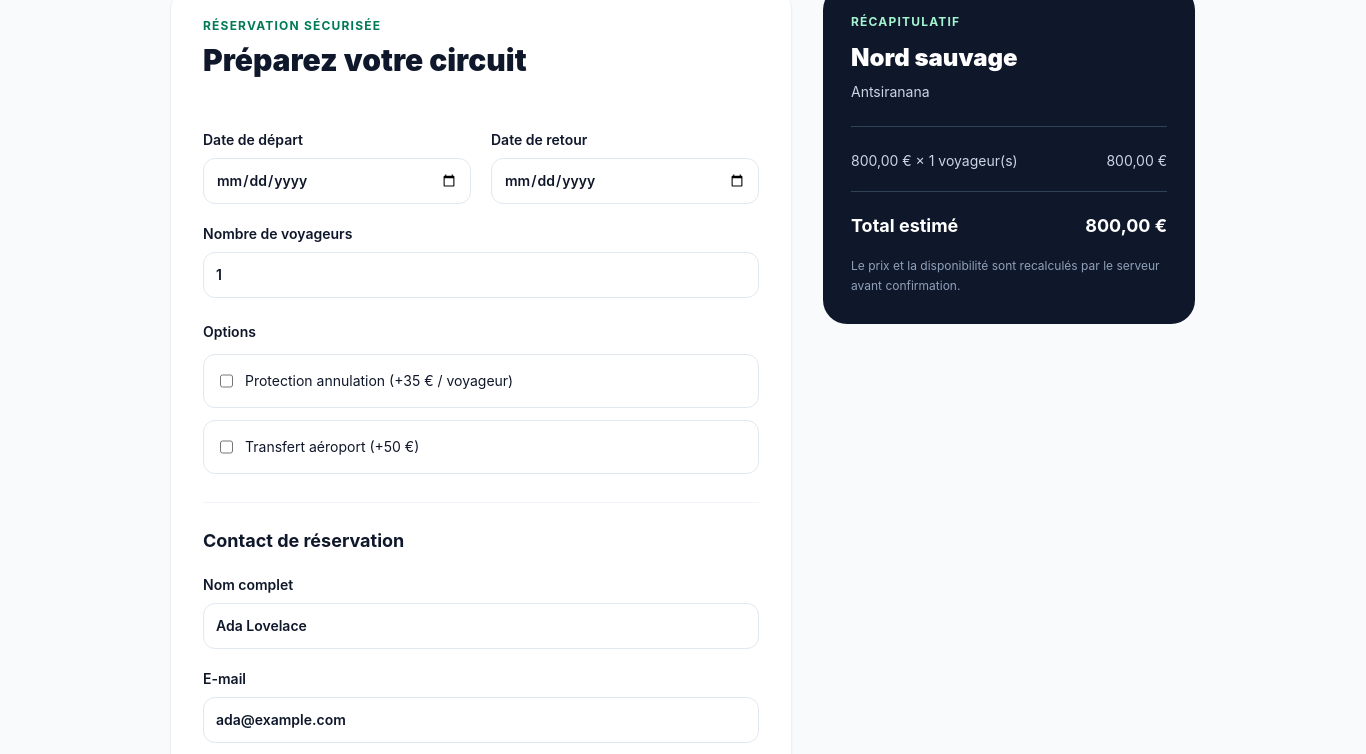
CircuitBookingPage › loads a circuit, pre-fills the contact and creates its booking
Expected: the heading "Préparez votre circuit" is shown, [203,42,527,78]
Expected: the field showing "ada@example.com" is shown, [203,697,759,743]
Type "2027-01-10" into the date field labelled "Date de départ". click: (337, 181)
box: [203,158,471,204]
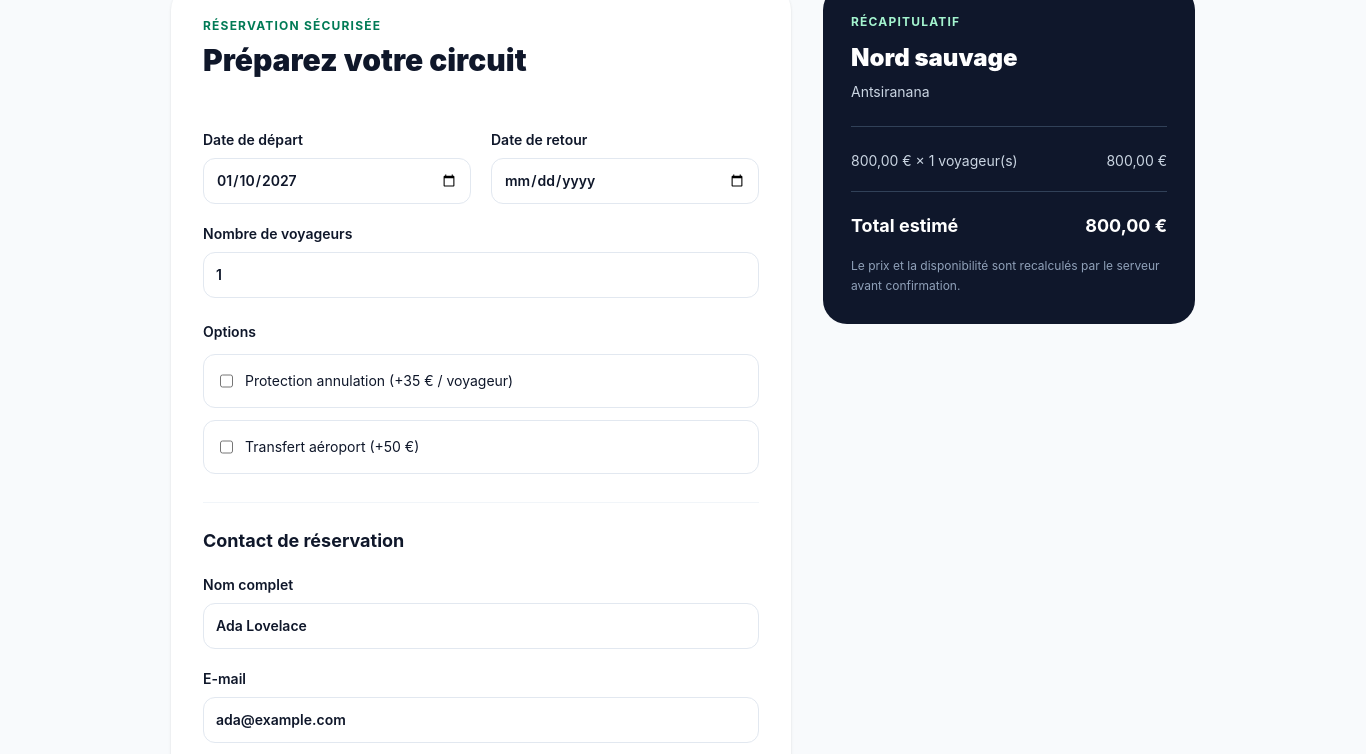
Type "2027-01-17" into the date field labelled "Date de retour". click: (625, 181)
box: [491,158,759,204]
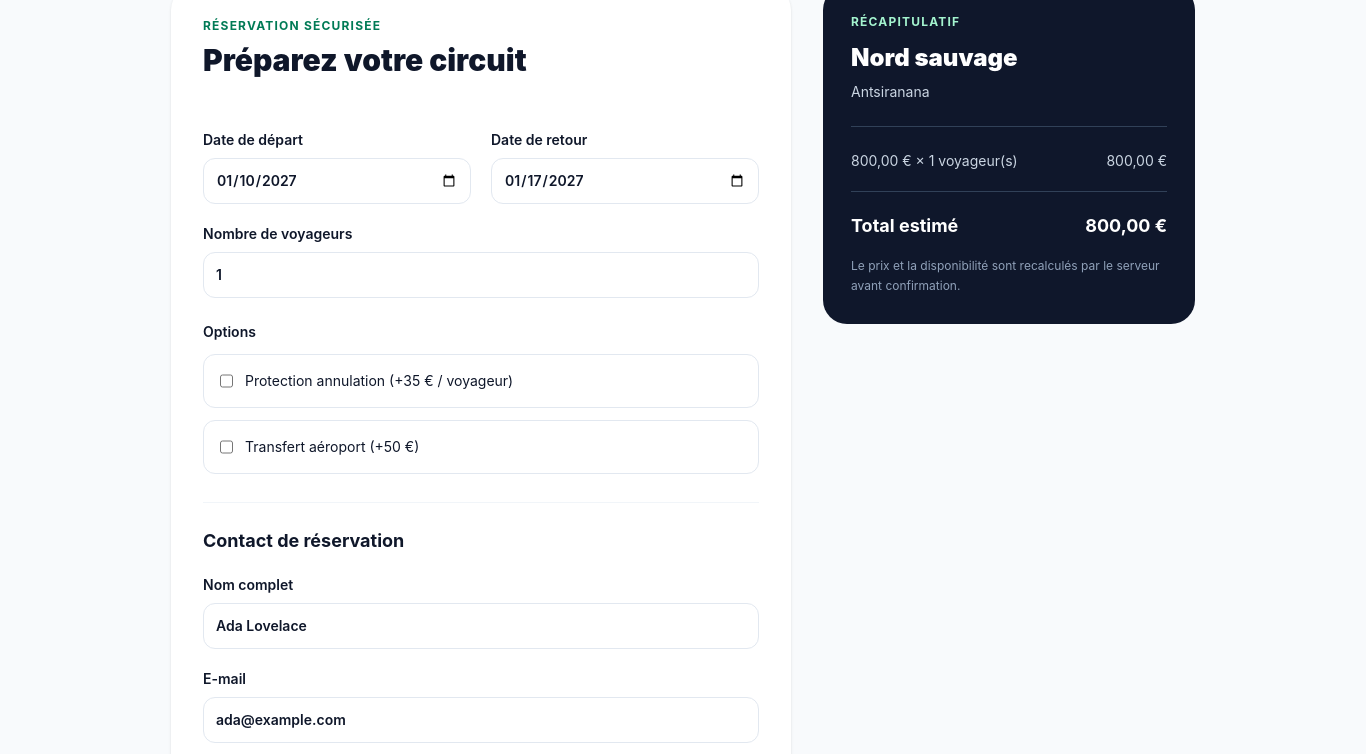
Replace the text in the number field labelled "Nombre de voyageurs" with "2". click: (481, 275)
box: [203,252,759,298]
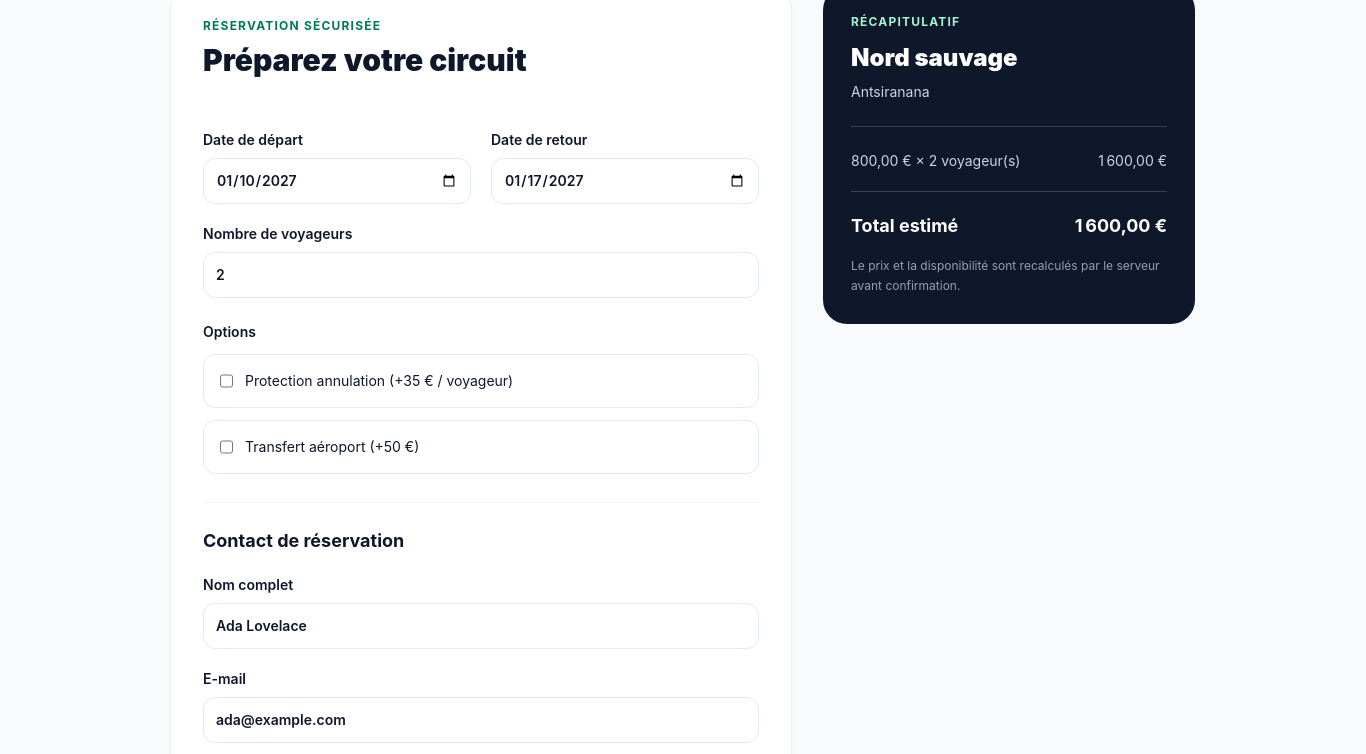
Click the checkbox labelled "Protection annulation (+35 € / voyageur)". click: (226, 381)
box: [220,371,233,391]
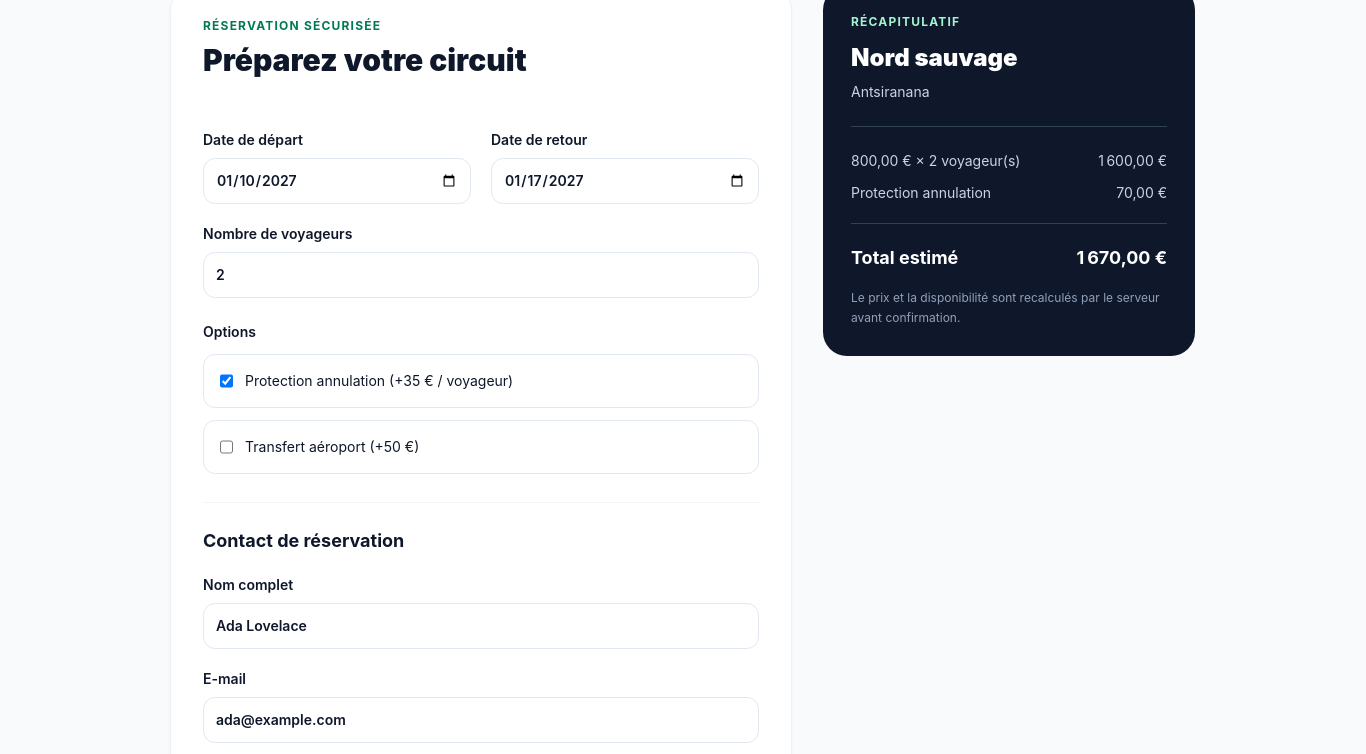
Click the checkbox labelled "Transfert aéroport (+50 €)". click: (226, 447)
box: [220,437,233,457]
(page scrolled)
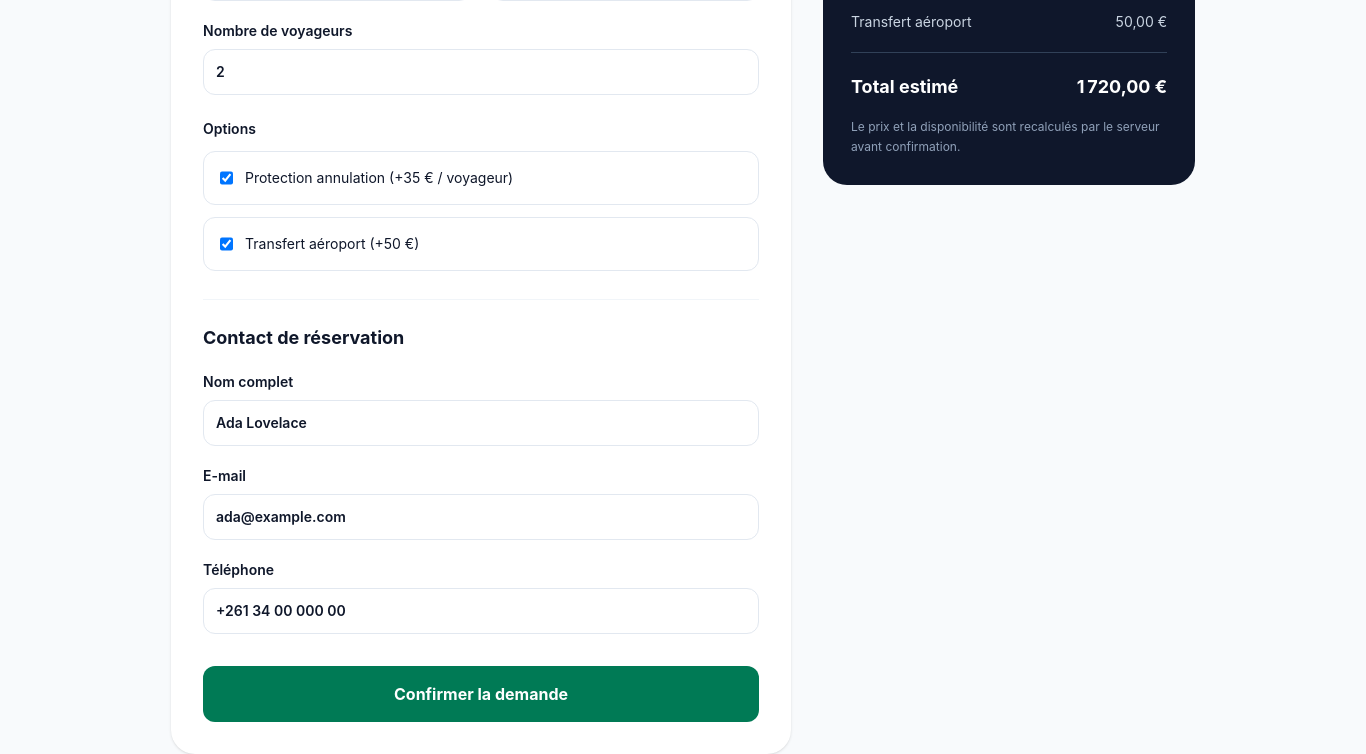
Click the button "Confirmer la demande". click: (481, 694)
box: [203,666,759,722]
(page scrolled)
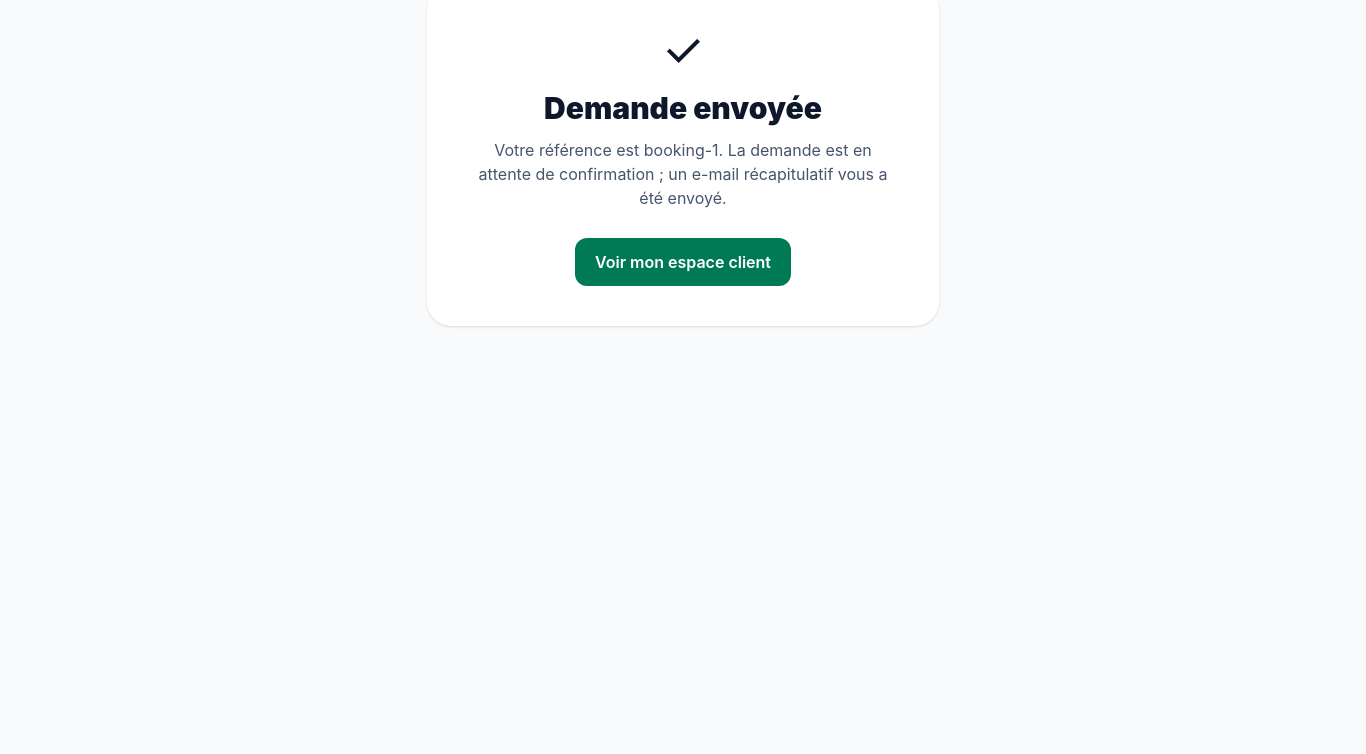
Now the text "Votre référence est booking-1" is shown, box [467,138,899,210]
